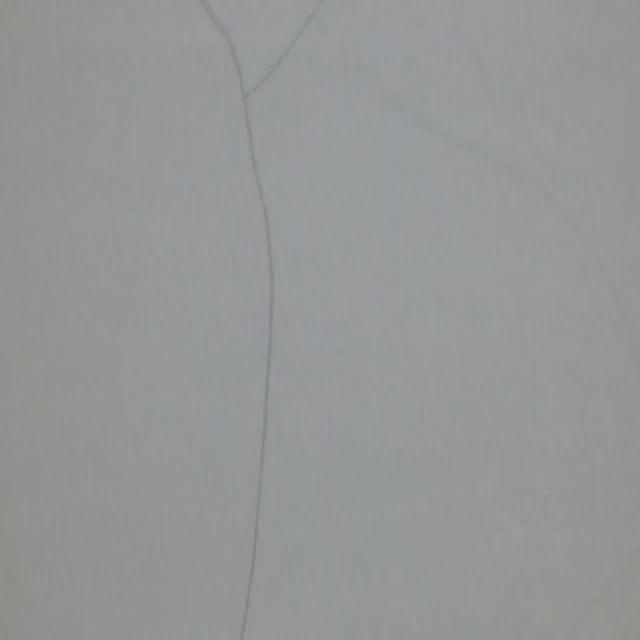Crack: (188, 0, 325, 636)
